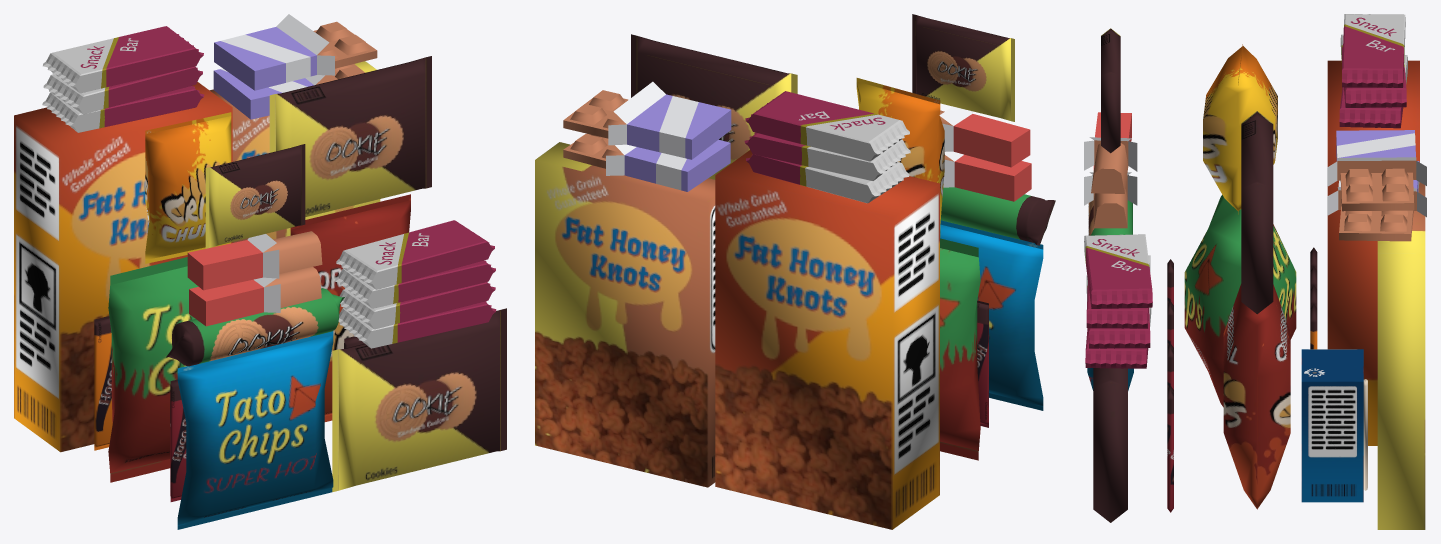
The model's file is snack_stash.glb.
The picture shows the model from 3 angles, left to right: view 1: azimuth 30°, elevation 25°; view 2: azimuth 150°, elevation 25°; view 3: azimuth 270°, elevation 25°; orthographic projection. The views are drawn at different scales.
Visible parts, largest first — view 1: snack_stash; view 2: snack_stash; view 3: snack_stash.
Boxes of the visible parts, x1=… form: snack_stash: x1=14, y1=14, x2=506, y2=529; snack_stash: x1=535, y1=14, x2=1055, y2=529; snack_stash: x1=1084, y1=14, x2=1426, y2=529.
Bounding box in the file's own units: 0.3573 × 0.3606 × 0.3089.
Materials: 10 (1 with a texture image).
